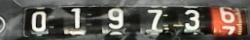digits: (219, 6, 238, 36), (30, 10, 47, 32), (183, 9, 199, 32), (107, 8, 124, 28), (147, 8, 162, 30), (70, 8, 81, 28)
